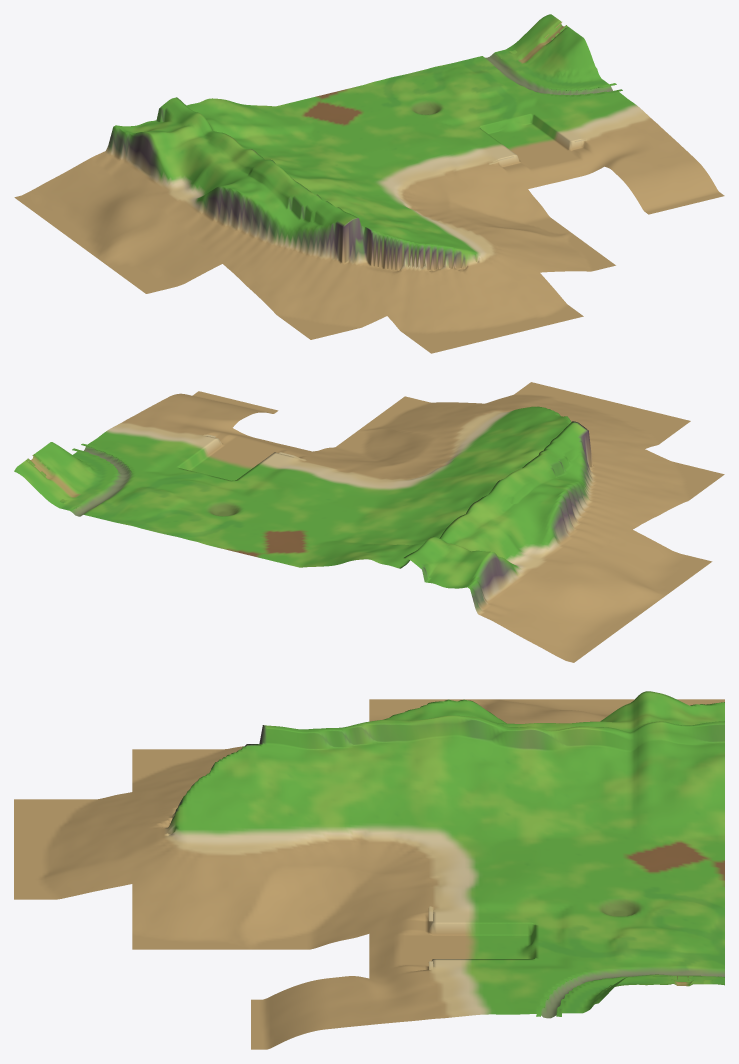
The model's file is terrain.glb.
3 renders of one model, top to bottom at view 1: azimuth 30°, elevation 25°; view 2: azimuth 150°, elevation 25°; view 3: azimuth 270°, elevation 25°, orthographic. The views are drawn at different scales.
Parts seen in each view (by area): view 1: terrain_2_5, terrain_1_5, terrain_1_6, terrain_2_6; view 2: terrain_2_5, terrain_1_5, terrain_1_6, terrain_2_6; view 3: terrain_2_5, terrain_1_5, terrain_2_6, terrain_1_6.
Part boxes in pixels (x1,y1,x2,y2): terrain_2_5: [243, 14, 724, 235]; terrain_1_5: [14, 97, 418, 304]; terrain_1_6: [267, 229, 507, 353]; terrain_2_6: [420, 231, 615, 334]; terrain_2_5: [14, 391, 518, 567]; terrain_1_5: [334, 421, 712, 662]; terrain_1_6: [519, 401, 724, 504]; terrain_2_6: [359, 382, 610, 432]; terrain_2_5: [251, 797, 724, 1049]; terrain_1_5: [251, 691, 724, 807]; terrain_2_6: [14, 793, 250, 949]; terrain_1_6: [14, 744, 250, 849].
Size of the model in its own units: 318 by 37.18 by 270.
